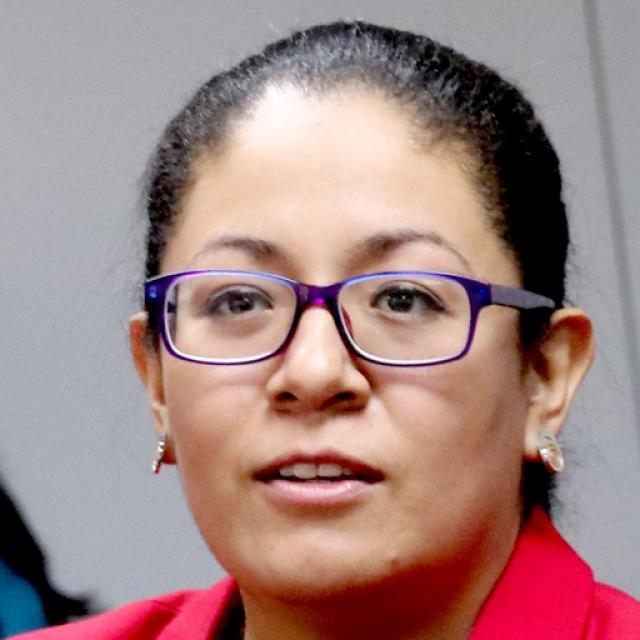neutral: (164, 102, 524, 588)
